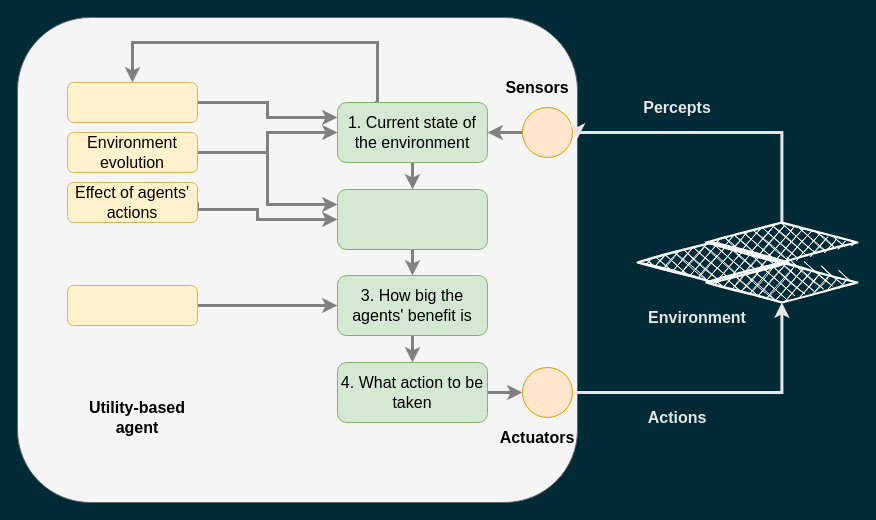
This 876x520 diagram has some shape labels left out. The shapes that lost their labels are listed below. From the top down, each one's box as (x1, y1, x2, y2) in pixels, then its label:
(66, 82, 198, 122): Agents' state
(336, 188, 488, 250): 2. Effect of an action on envionment
(66, 284, 198, 326): Utility
